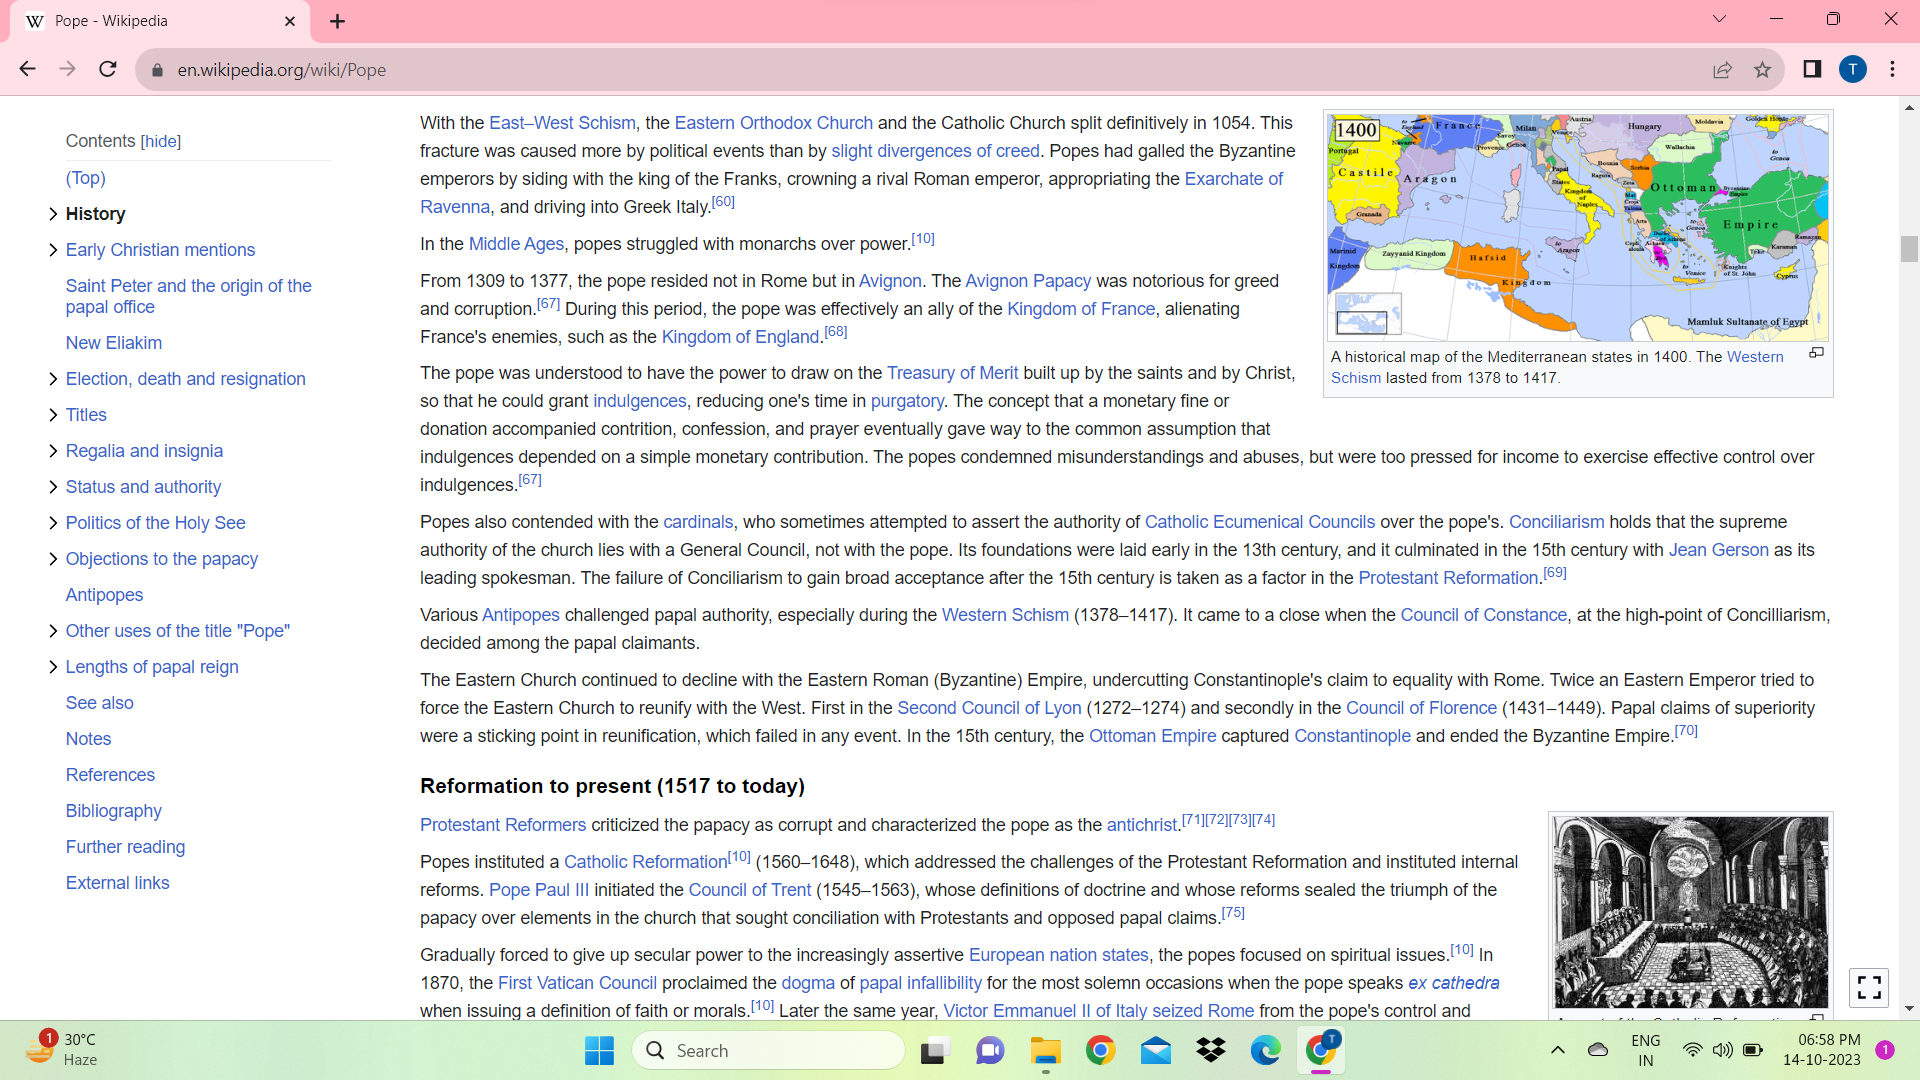Image: (1312, 99, 1836, 349), (1543, 815, 1825, 1005)
Paragraph: (406, 803, 1526, 1027), (386, 596, 1899, 753), (410, 360, 1858, 501), (414, 505, 1882, 600), (406, 105, 1313, 220), (411, 265, 1324, 356), (411, 223, 956, 265), (411, 764, 822, 798), (50, 502, 252, 543), (51, 363, 316, 393), (67, 435, 233, 468), (65, 651, 248, 678), (54, 761, 170, 794), (61, 576, 160, 611), (61, 194, 145, 223), (58, 876, 183, 893)
